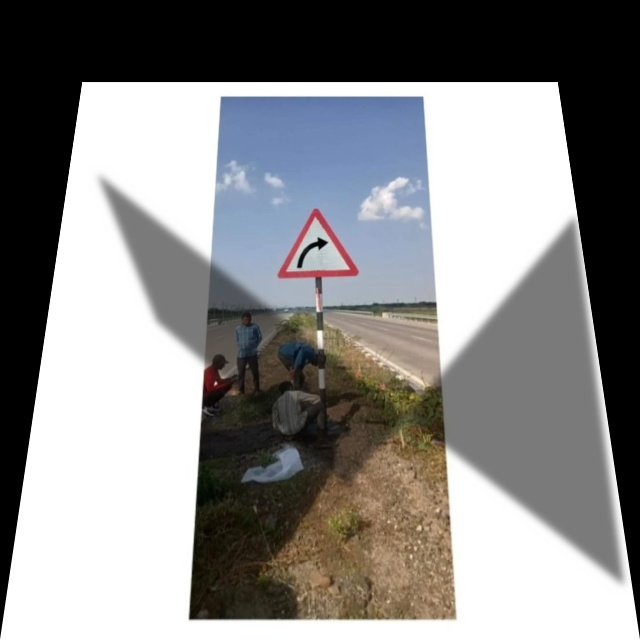Right_Hand_Curve: (278, 207, 355, 276)
